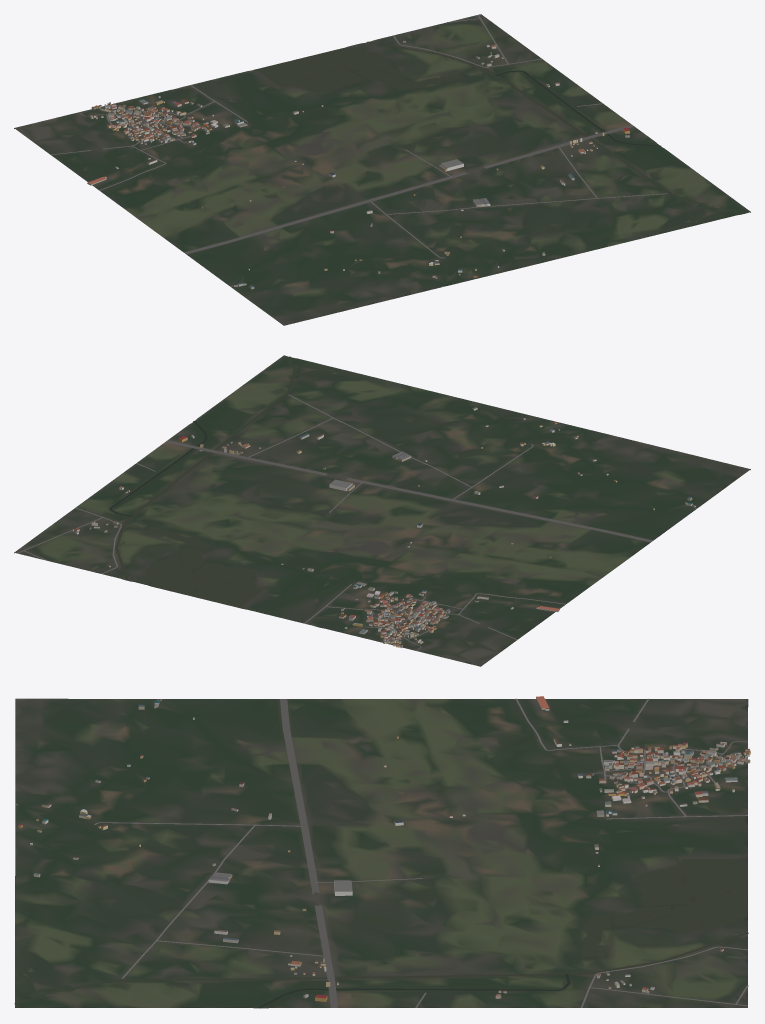
3 renders of one model, top to bottom at view 1: azimuth 30°, elevation 25°; view 2: azimuth 150°, elevation 25°; view 3: azimuth 270°, elevation 25°, orthographic. The views are drawn at different scales.
Parts seen in each view (by area): view 1: ground, water, buildings, roads; view 2: ground, water, buildings, roads; view 3: ground, water, buildings, roads.
Part boxes in pixels (left/top/right/bottom): ground: left=14, top=14, right=750, bottom=325; water: left=174, top=41, right=745, bottom=213; buildings: left=87, top=40, right=629, bottom=289; roads: left=51, top=14, right=667, bottom=286; ground: left=14, top=355, right=750, bottom=666; water: left=109, top=356, right=321, bottom=627; buildings: left=72, top=407, right=695, bottom=648; roads: left=17, top=394, right=696, bottom=650; ground: left=15, top=698, right=748, bottom=1008; water: left=14, top=804, right=748, bottom=1008; buildings: left=18, top=696, right=750, bottom=1001; roads: left=15, top=698, right=748, bottom=1007.
Size of the model in its own units: 1407 by 14.1 by 1410.
